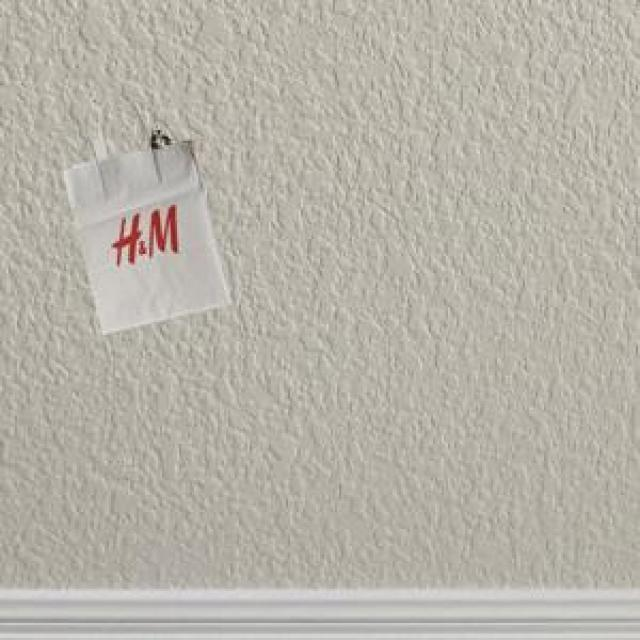paper: (60, 122, 226, 329)
